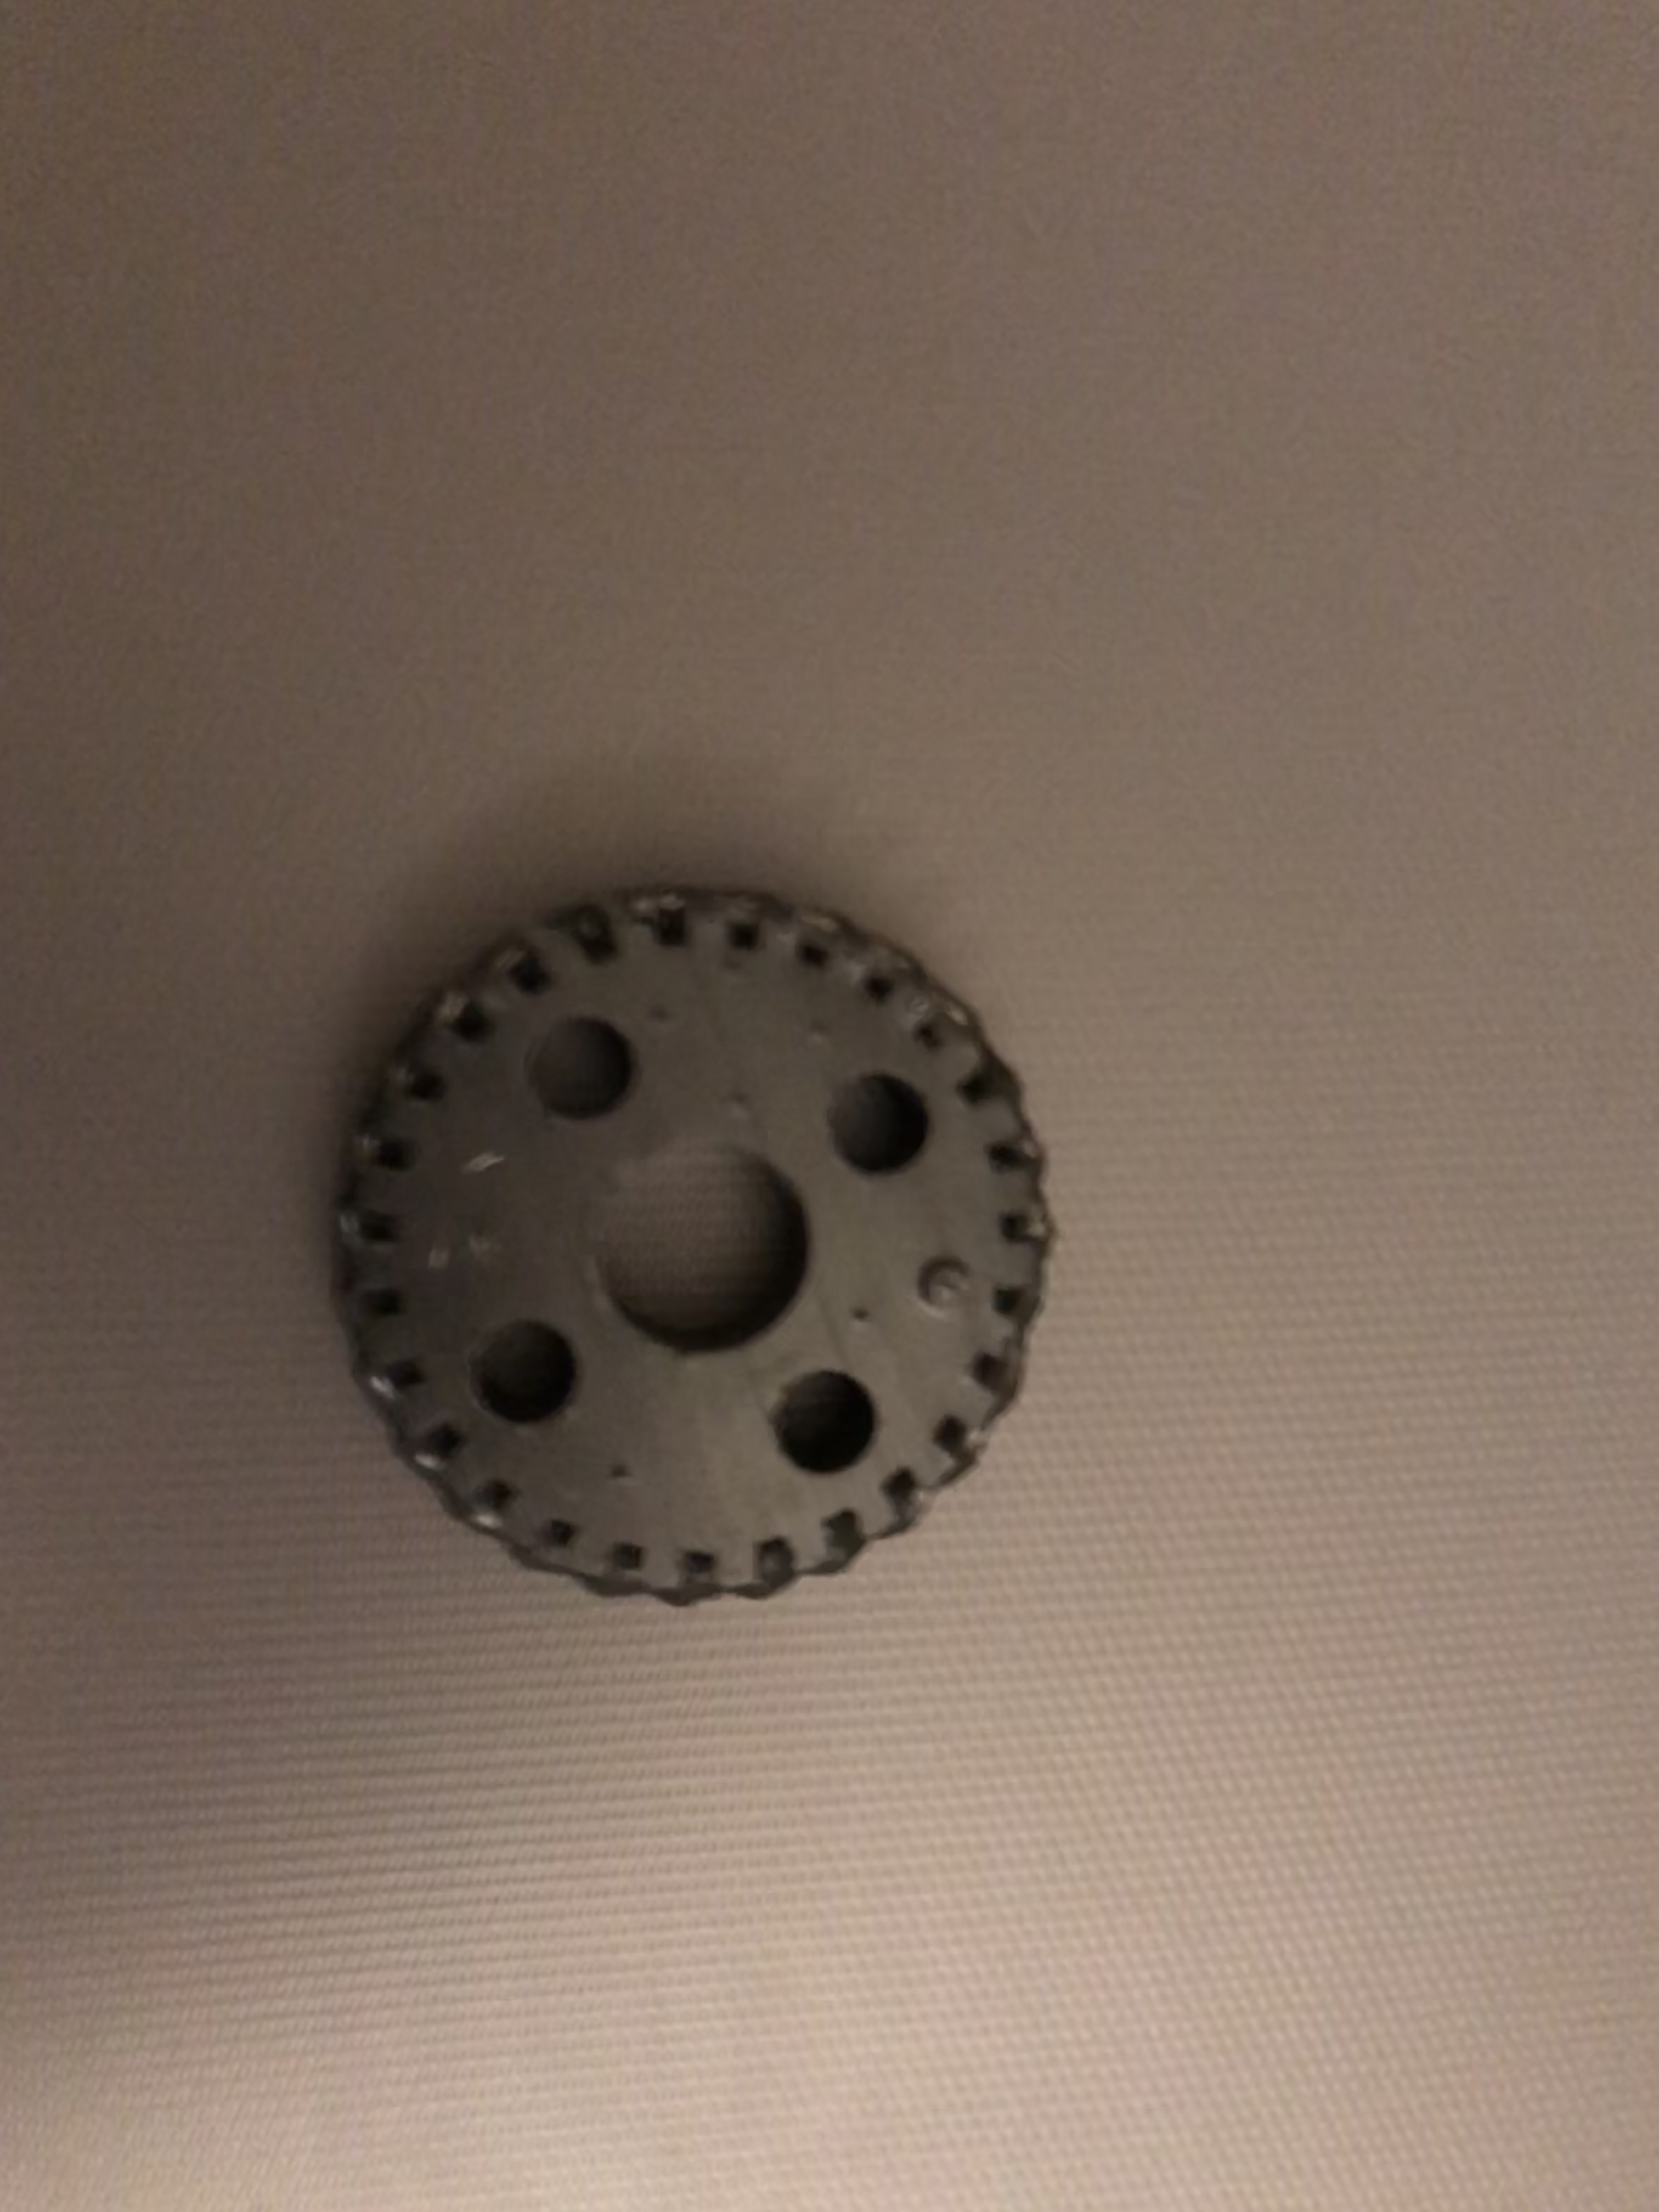Wheel: (326, 878, 1065, 1616)
